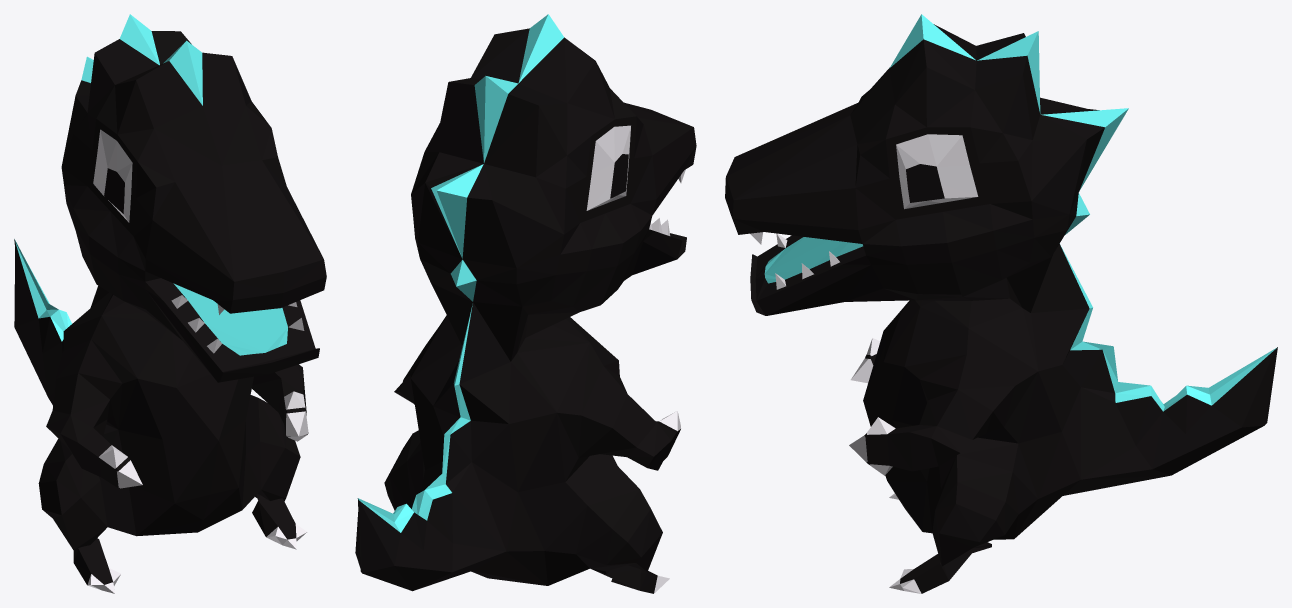
Rendered from zilla_000015.obj.
The picture shows the model from 3 angles, left to right: view 1: azimuth 30°, elevation 25°; view 2: azimuth 150°, elevation 25°; view 3: azimuth 270°, elevation 25°; orthographic projection. The views are drawn at different scales.
Visible parts, largest first — view 1: Body_Cube; view 2: Body_Cube; view 3: Body_Cube.
Boxes of the visible parts, x1,y1,x2,y2 form: Body_Cube: (14, 14, 326, 593); Body_Cube: (355, 14, 696, 593); Body_Cube: (725, 14, 1277, 593).
Bounding box in the file's own units: 2 × 4.03 × 3.83.
Materials: 1 (1 with a texture image).
